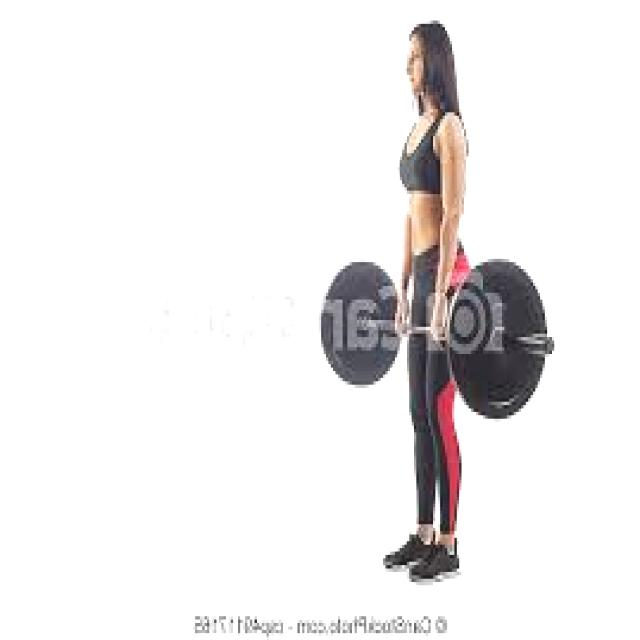barbell_plate_side: (321, 255, 380, 419), (498, 255, 557, 419)
